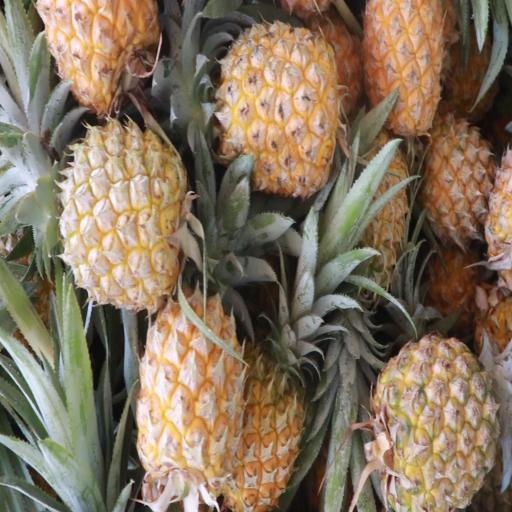------------------------------: (371, 328, 512, 512)
Pineapple - v8 v1: (135, 270, 246, 512), (214, 245, 312, 512), (45, 130, 185, 306), (199, 26, 341, 194), (358, 0, 444, 131), (418, 110, 492, 252)
